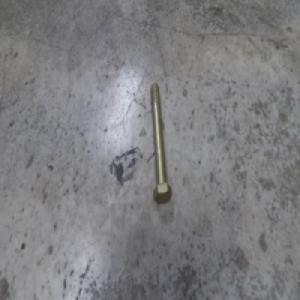Bolt: (148, 85, 171, 207)
